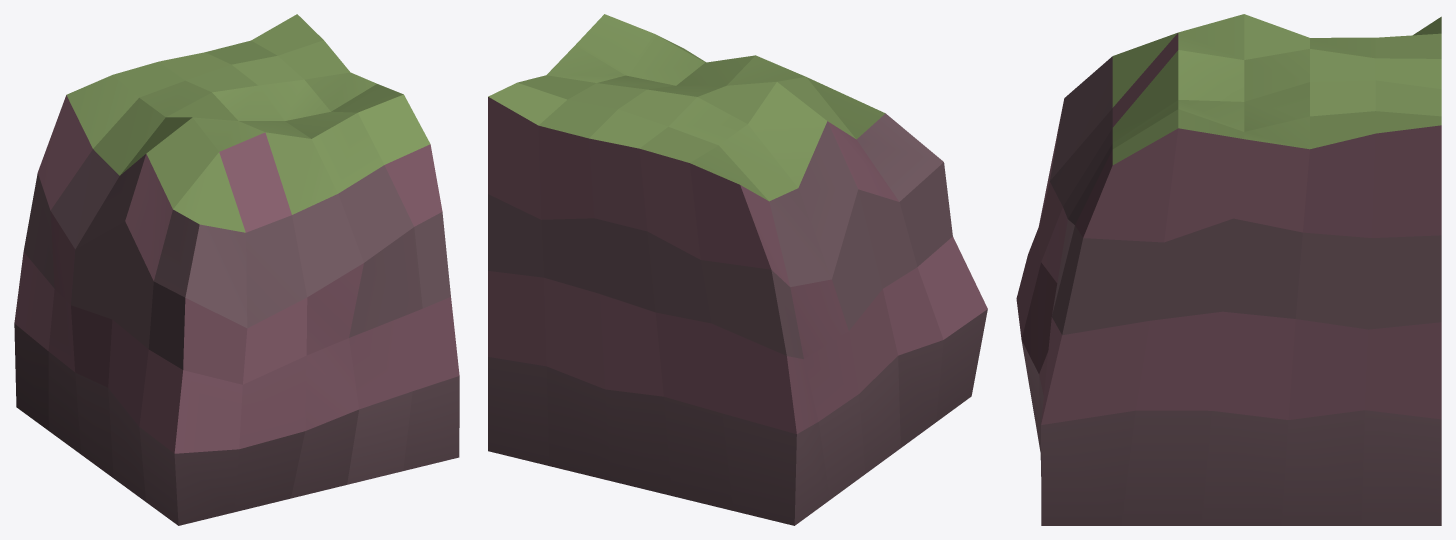
The model's file is roca_esquina.glb.
3 renders of one model, left to right at view 1: azimuth 30°, elevation 25°; view 2: azimuth 150°, elevation 25°; view 3: azimuth 270°, elevation 25°, orthographic. The views are drawn at different scales.
Parts seen in each view (by area): view 1: propforge-cuartos-roca_esquina; view 2: propforge-cuartos-roca_esquina; view 3: propforge-cuartos-roca_esquina.
Part boxes in pixels (x1,y1,x2,y2): propforge-cuartos-roca_esquina: (14, 14, 459, 525); propforge-cuartos-roca_esquina: (488, 14, 987, 525); propforge-cuartos-roca_esquina: (1016, 14, 1441, 525).
Bounding box in the file's own units: 0.9303 × 0.9949 × 0.9563.
